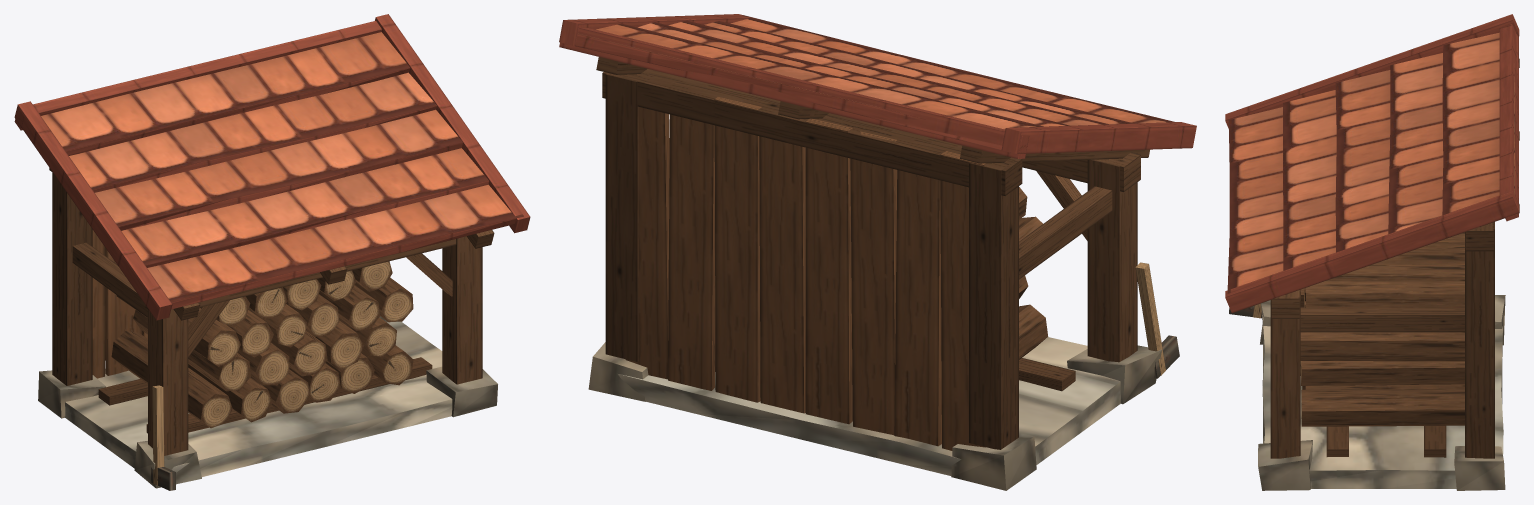
The model's file is woodshed.glb.
3 renders of one model, left to right at view 1: azimuth 30°, elevation 25°; view 2: azimuth 150°, elevation 25°; view 3: azimuth 270°, elevation 25°, orthographic. The views are drawn at different scales.
Visible parts, largest first — view 1: woodshed; view 2: woodshed; view 3: woodshed.
Part boxes in pixels (bbox=[...]): woodshed: bbox=[14, 14, 530, 490]; woodshed: bbox=[559, 14, 1196, 490]; woodshed: bbox=[1225, 14, 1519, 490].
Bounding box in the file's own units: 1.16 × 0.8893 × 0.7884.
Materials: 1 (1 with a texture image).
